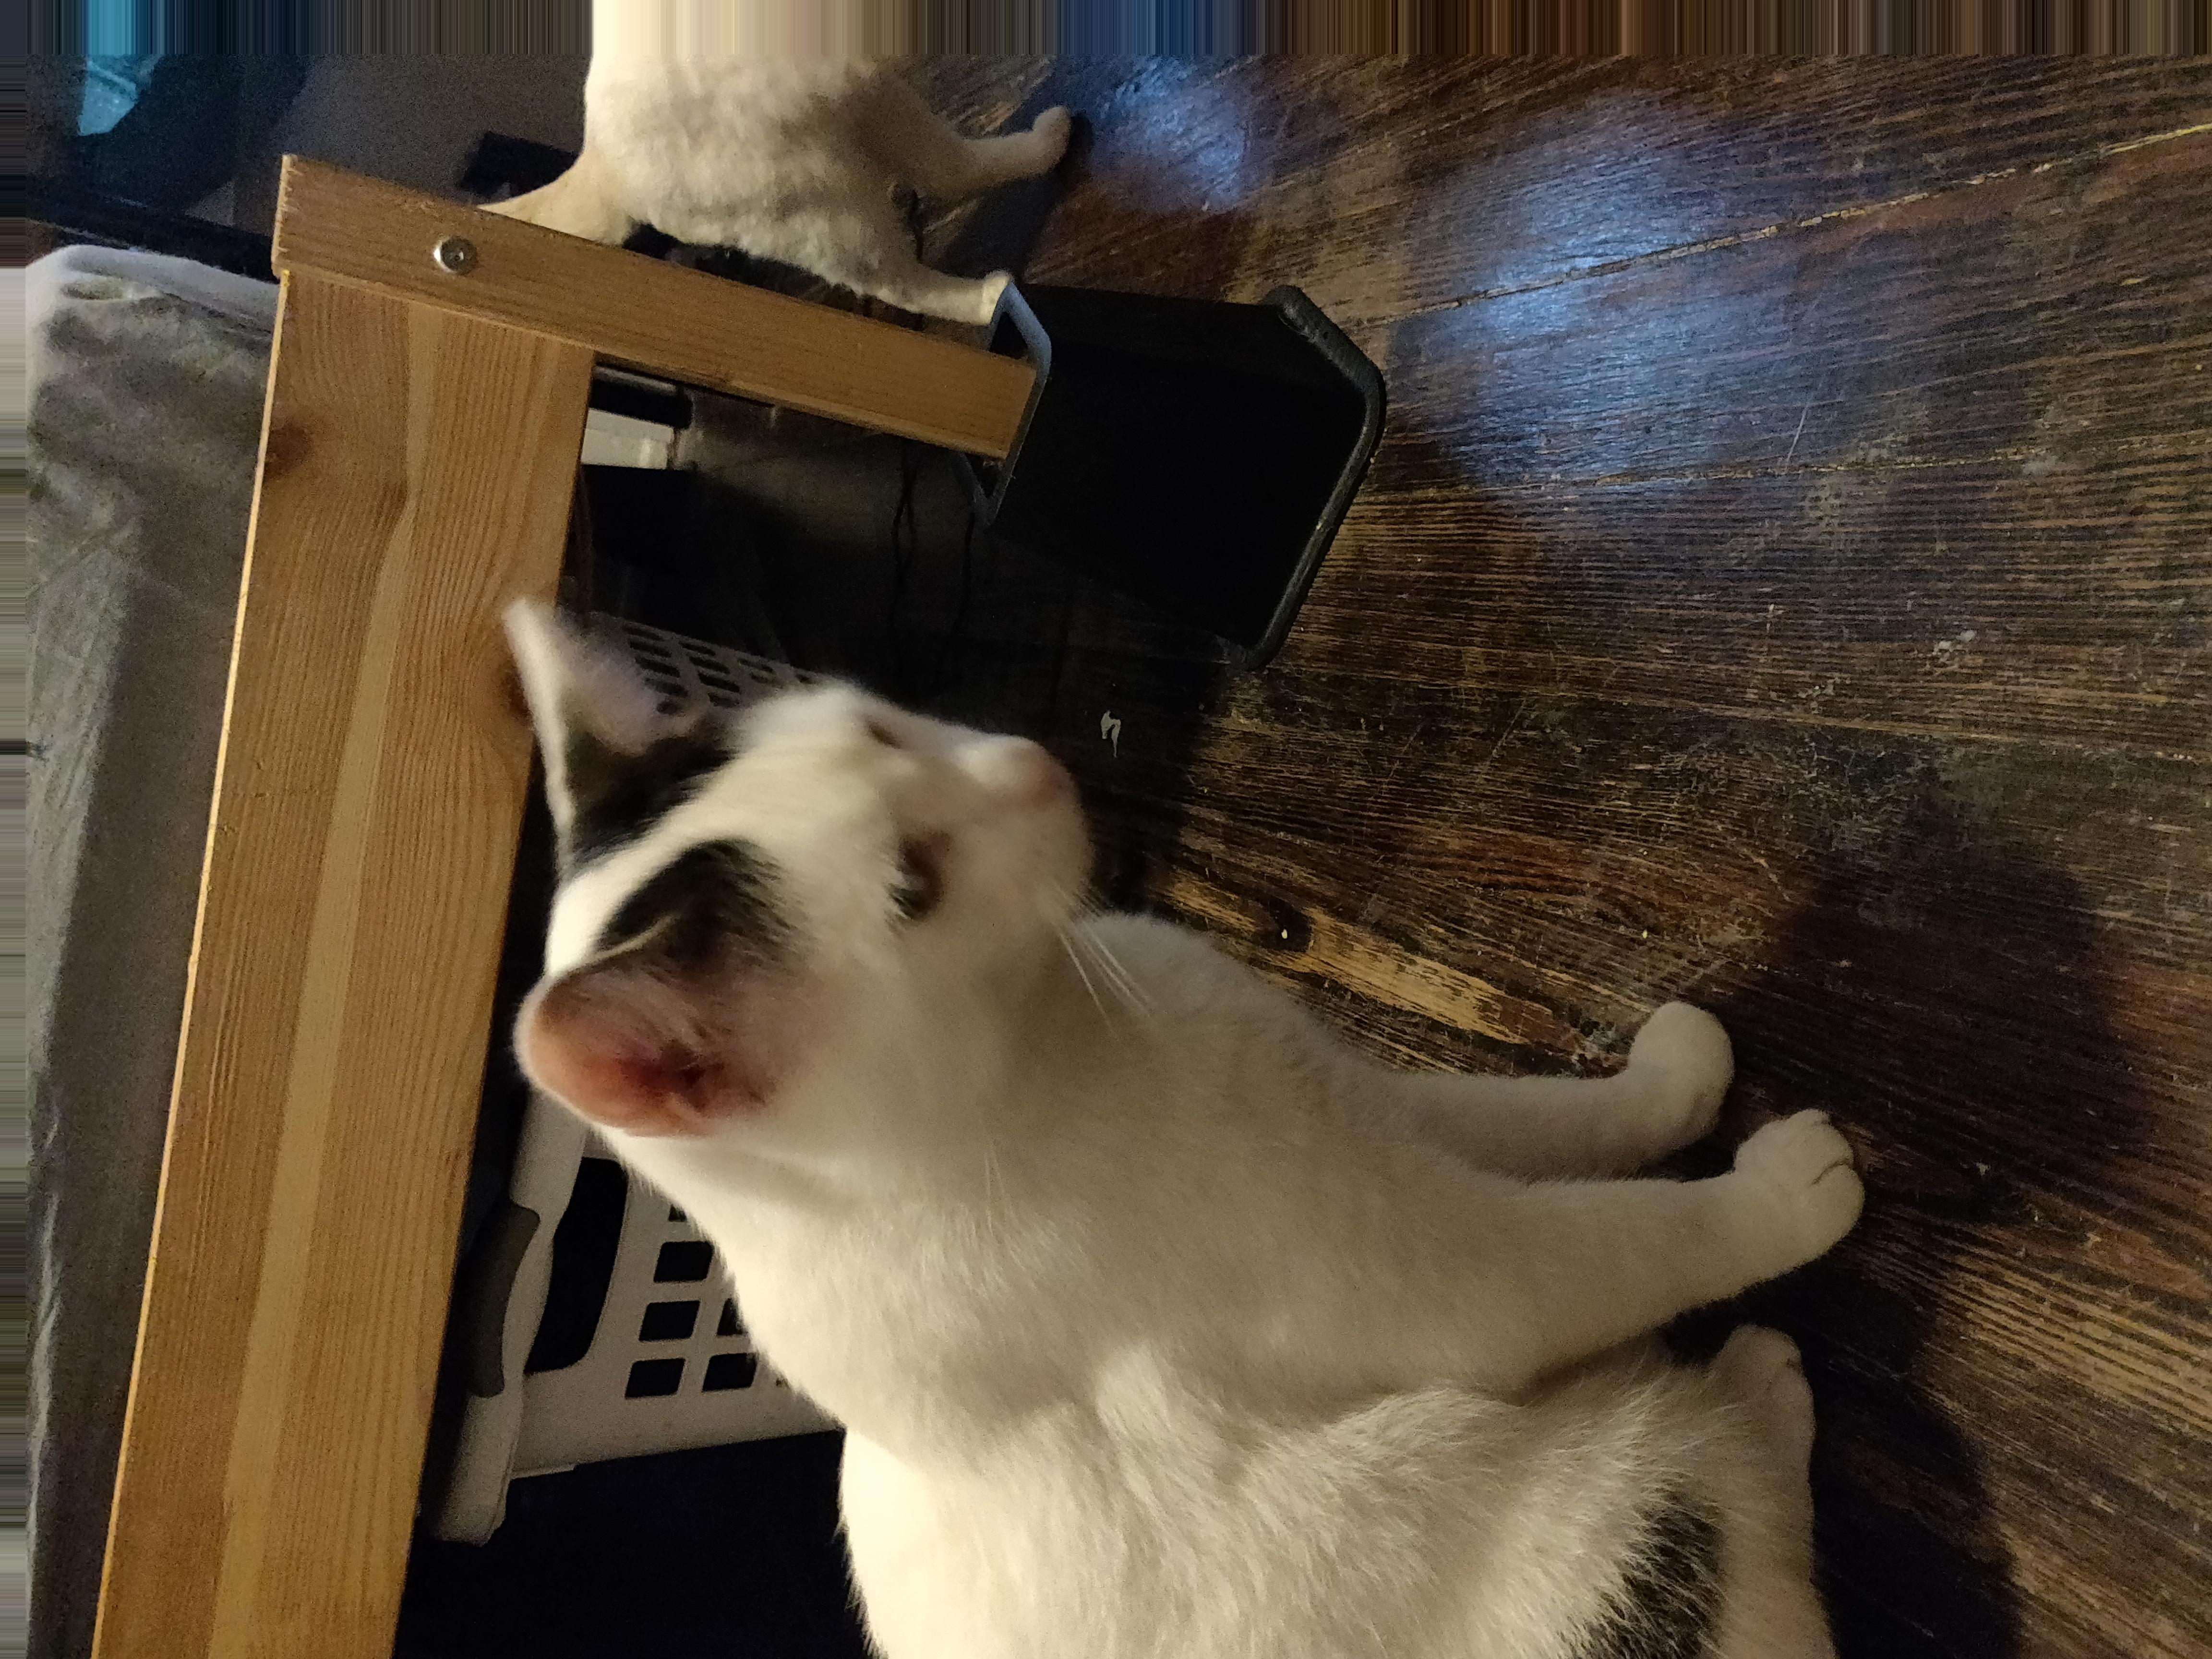cat: (493, 583, 1850, 1659)
